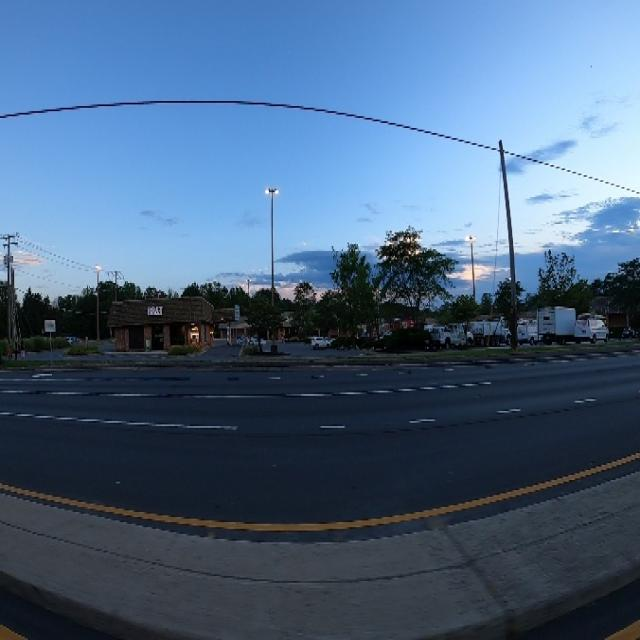cars: (538, 292, 576, 346), (472, 312, 510, 344), (575, 311, 608, 346), (433, 320, 470, 350), (517, 311, 537, 351), (310, 327, 331, 357)
